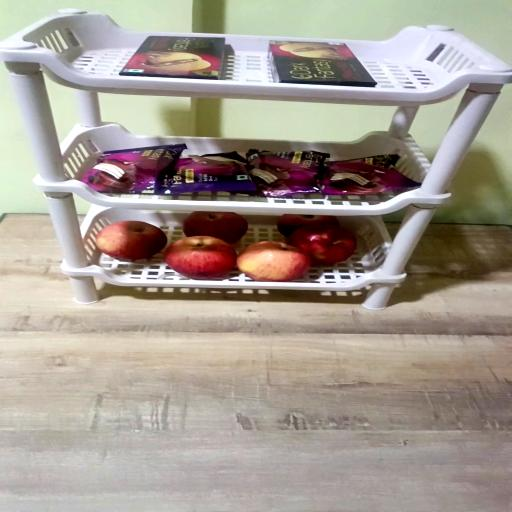Apple: (165, 236, 236, 280), (288, 223, 356, 266), (237, 242, 310, 282), (96, 221, 167, 261), (183, 211, 247, 243), (278, 214, 338, 238)
Choco Fills: (269, 41, 376, 87), (119, 36, 224, 80)
Choco Pie: (82, 144, 186, 194), (155, 152, 256, 195), (320, 154, 420, 195), (247, 150, 329, 197)
